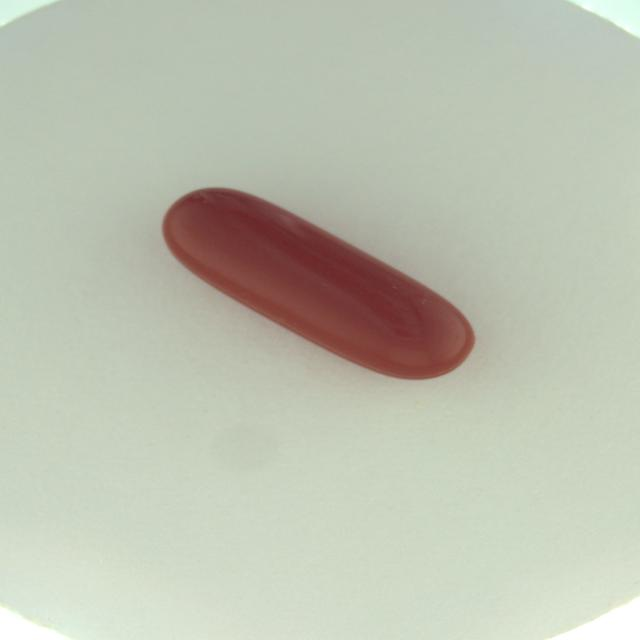Oval: (156, 174, 479, 388)
